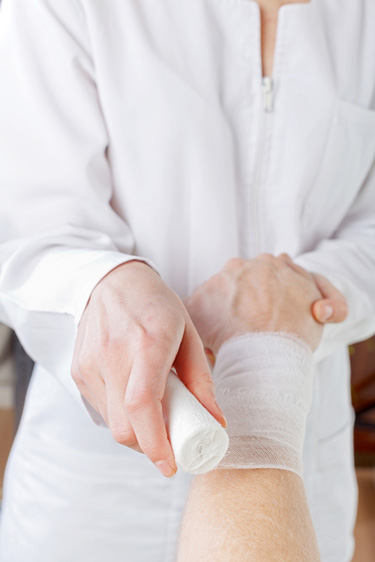injured: (192, 278, 341, 500)
